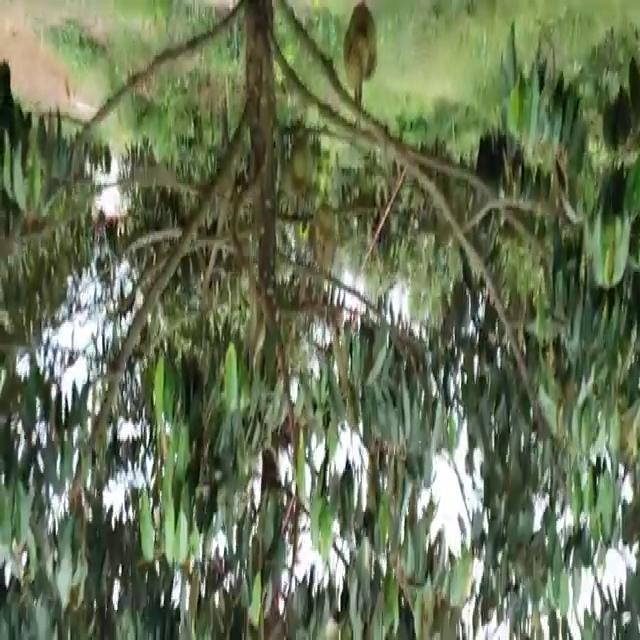durian: (340, 2, 380, 93)
